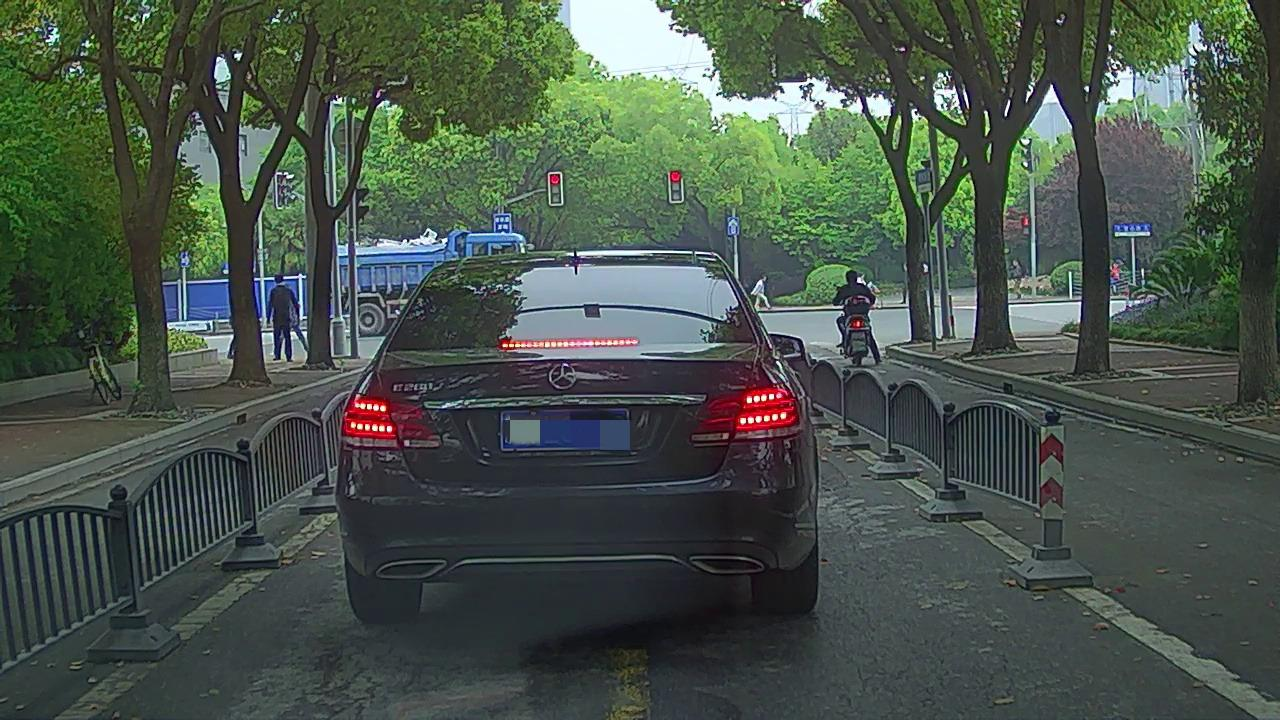traffic_light: (669, 171, 682, 201), (550, 174, 561, 204)
